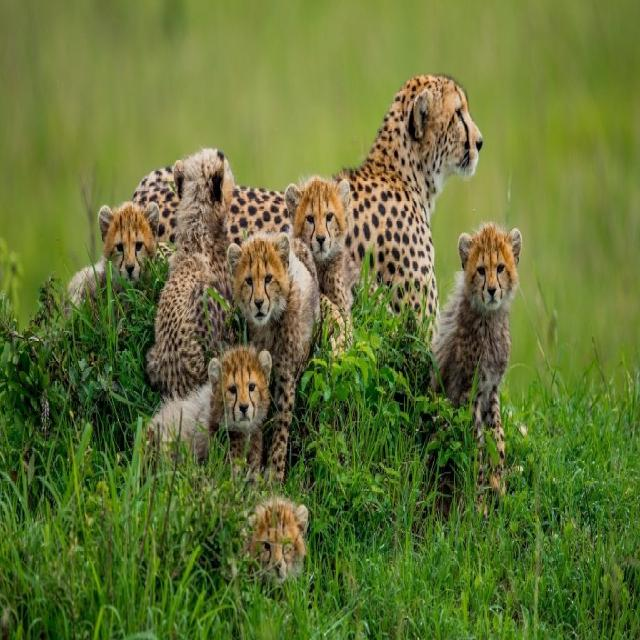Cheetah: (430, 216, 524, 487)
